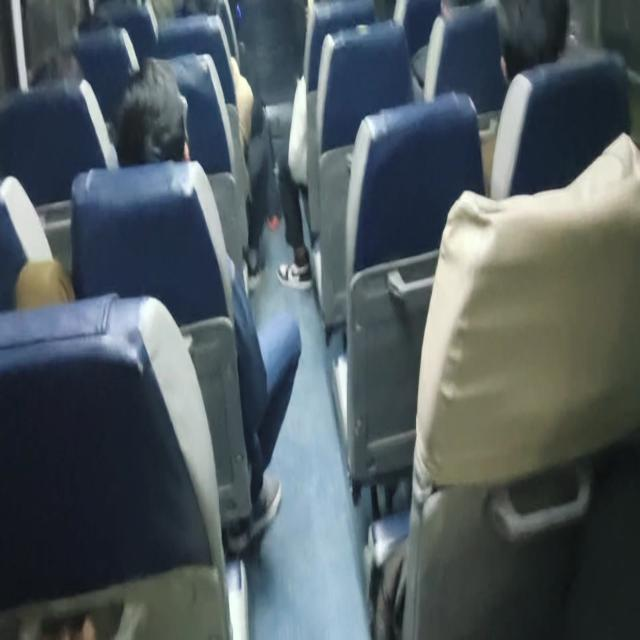person: (120, 69, 198, 168), (498, 0, 565, 90), (20, 47, 86, 90), (72, 7, 118, 46)
